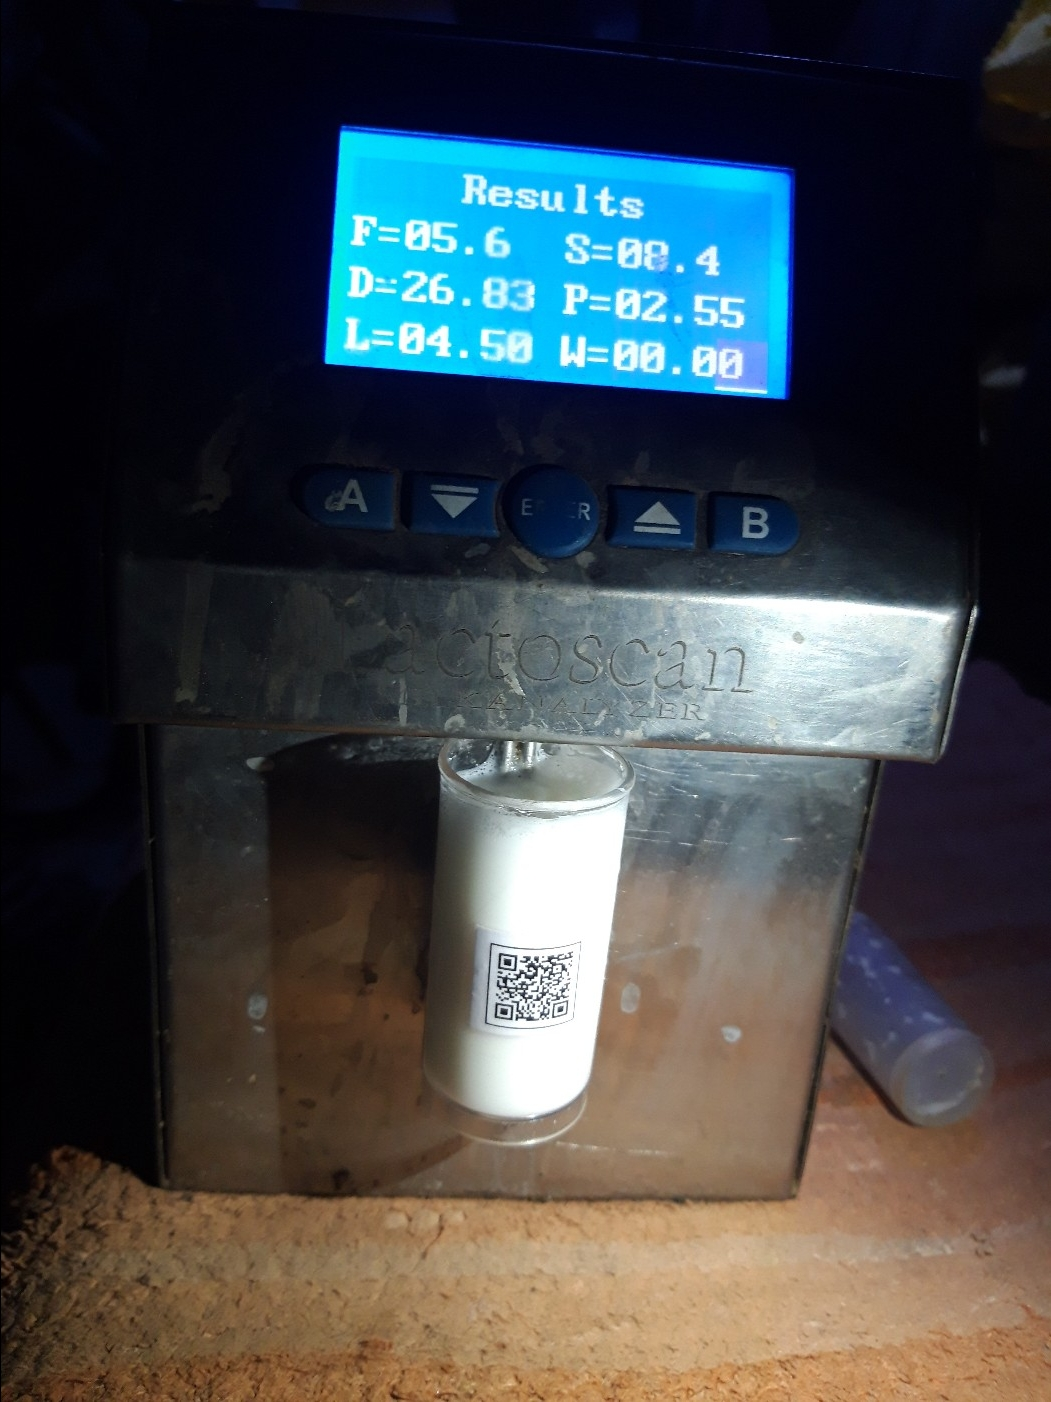lcd: (307, 111, 814, 415)
qr: (475, 936, 603, 1043)
